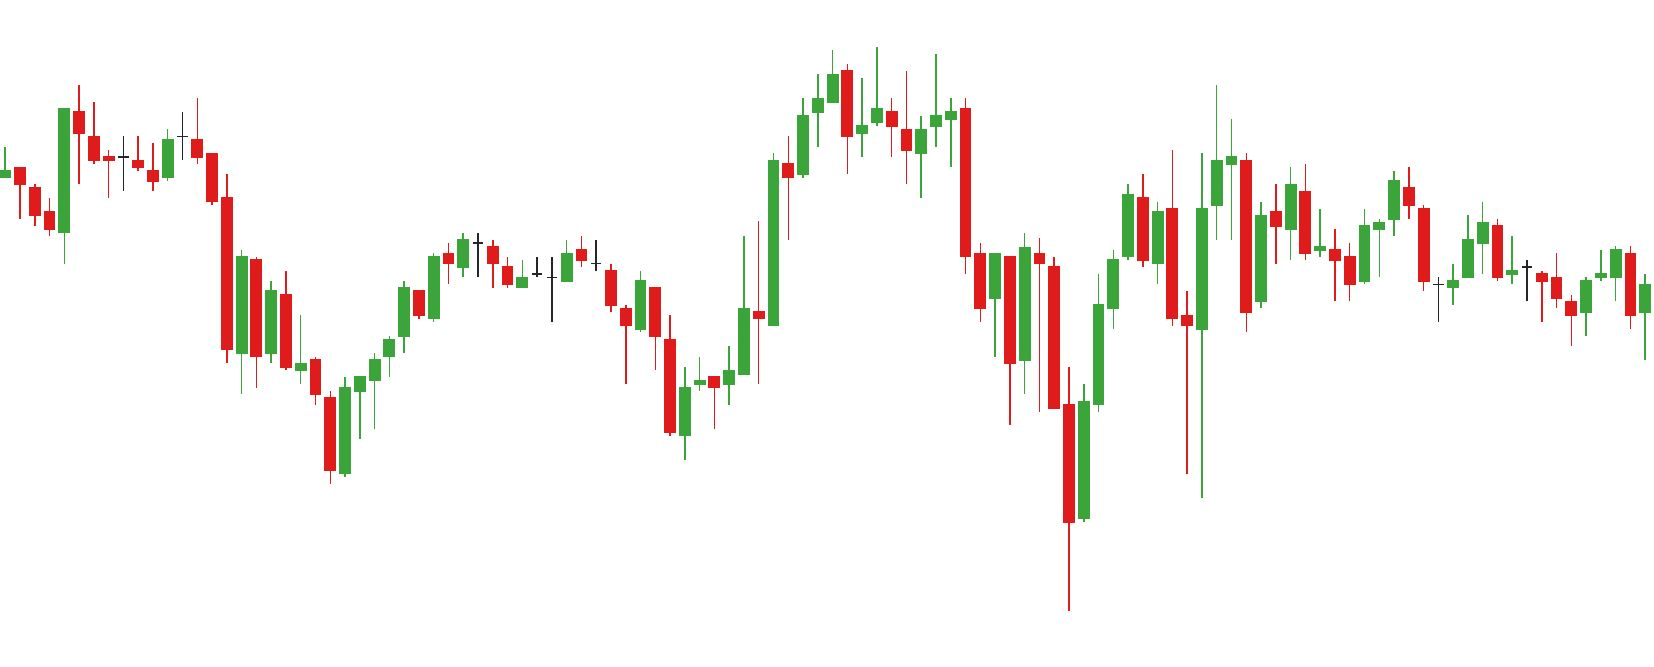sell: (1165, 82, 1254, 230)
